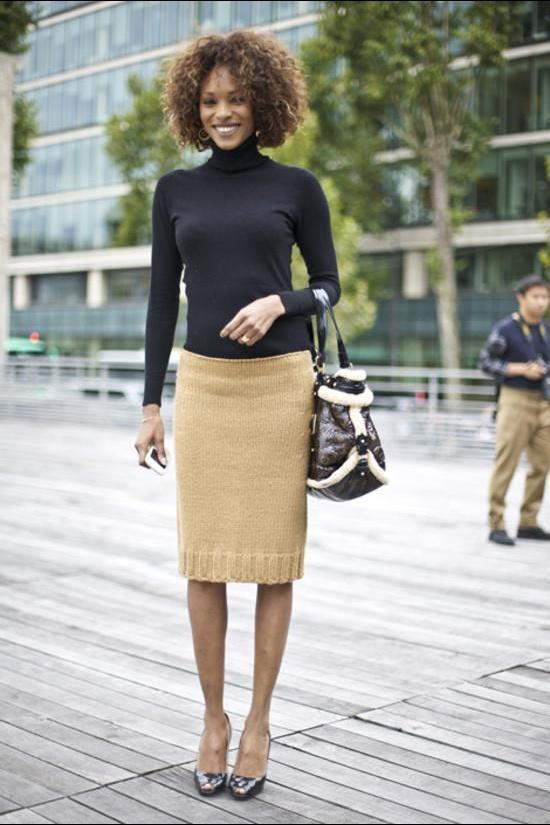skirt: (174, 341, 316, 585)
sweater: (144, 138, 340, 408)
